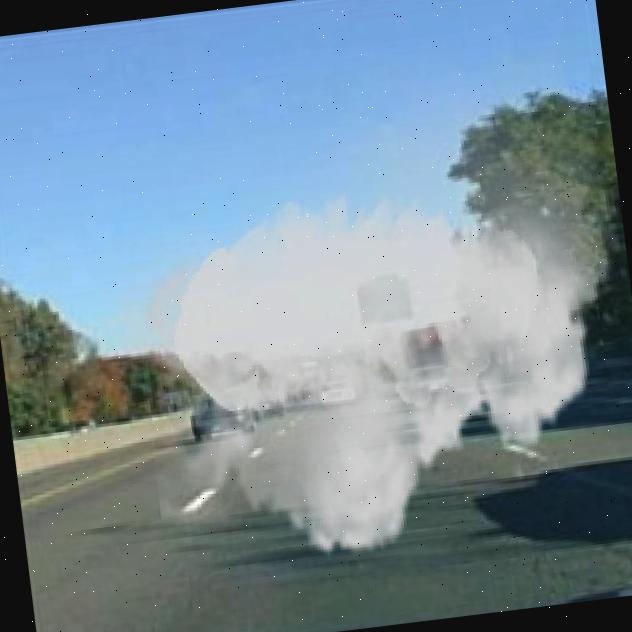smoke: (73, 13, 632, 601)
